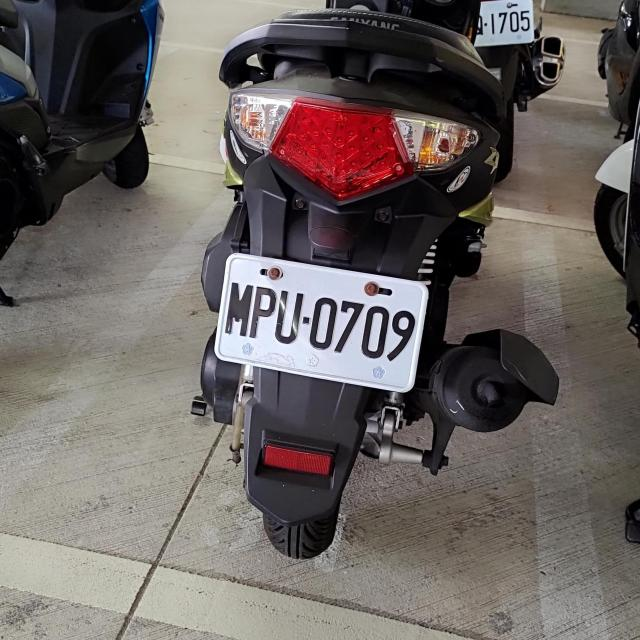W: (213, 254, 430, 389)
